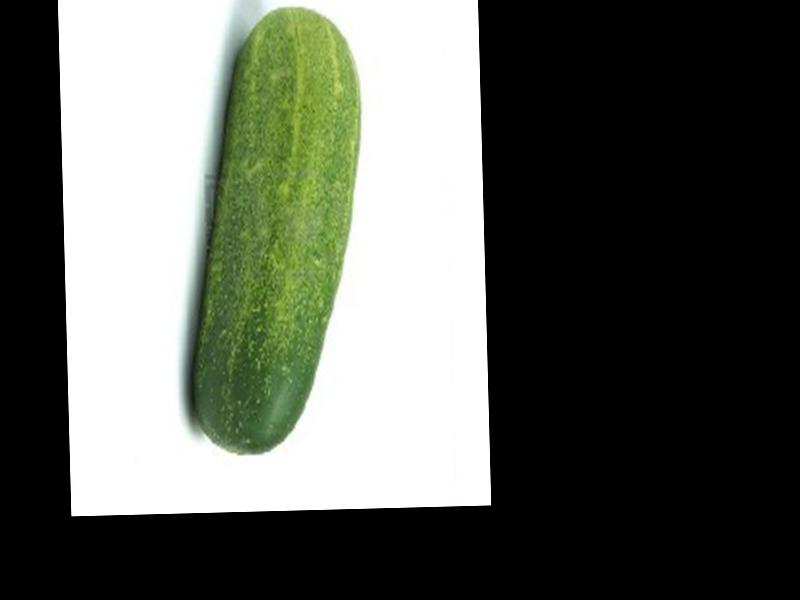Cucumber: (181, 5, 369, 454)
